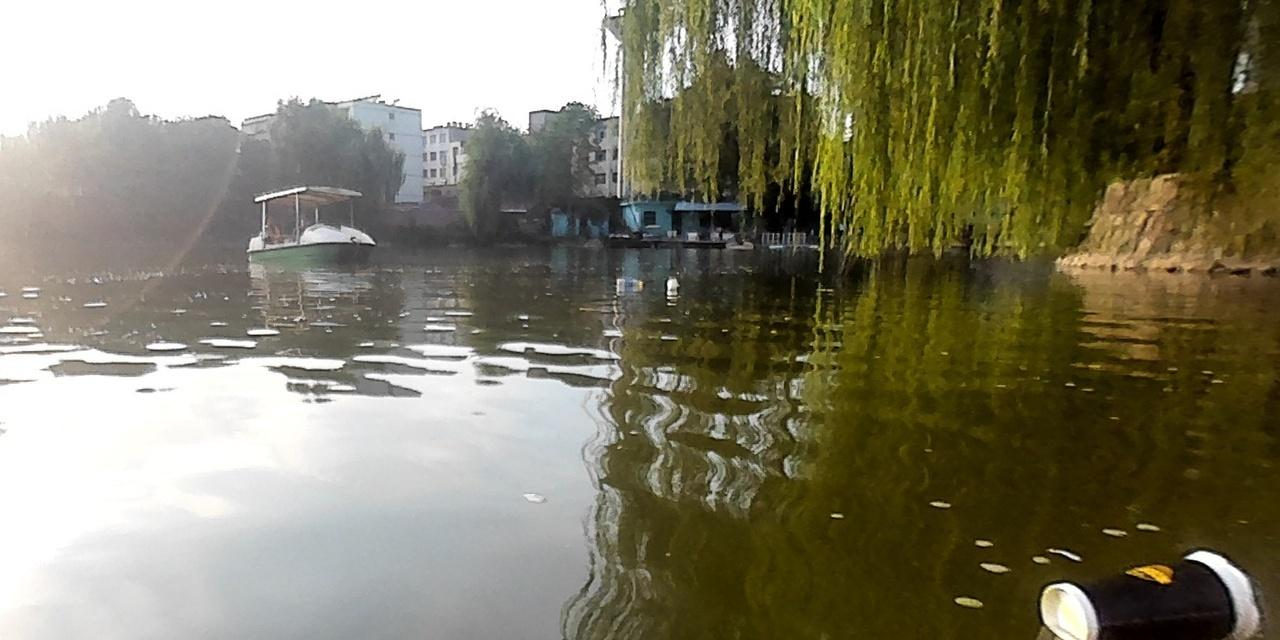bottle: (1029, 545, 1262, 639), (612, 273, 646, 288)
